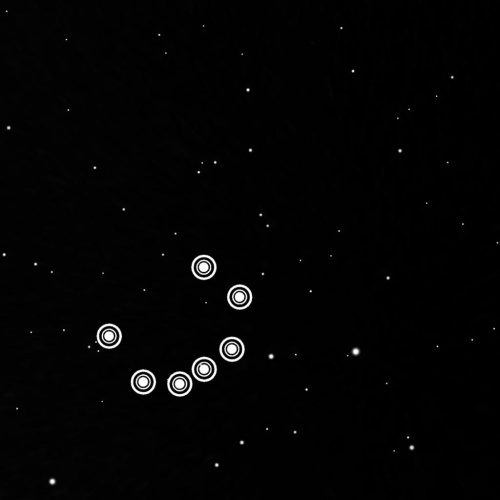corona_borealis: (92, 246, 260, 406)
